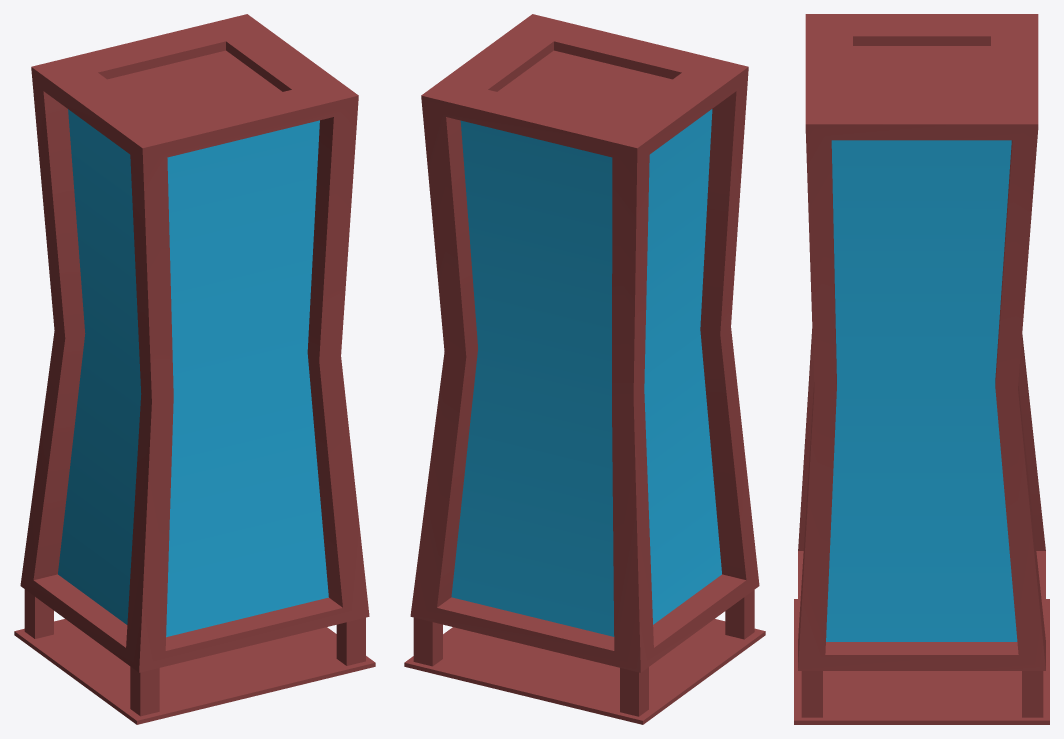
File: SM_AdvertSign_02.fbx
3 views of the same model, side by side, from view 1: azimuth 30°, elevation 25°; view 2: azimuth 150°, elevation 25°; view 3: azimuth 270°, elevation 25° (orthographic). The views are drawn at different scales.
Parts seen in each view (by area): view 1: SM_AdvertSign_02; view 2: SM_AdvertSign_02; view 3: SM_AdvertSign_02.
Boxes of the visible parts, left/top/right/bottom form: SM_AdvertSign_02: left=14, top=14, right=375, bottom=724; SM_AdvertSign_02: left=404, top=14, right=765, bottom=724; SM_AdvertSign_02: left=794, top=14, right=1049, bottom=724.
Bounding box in the file's own units: 177 × 403 × 157.
